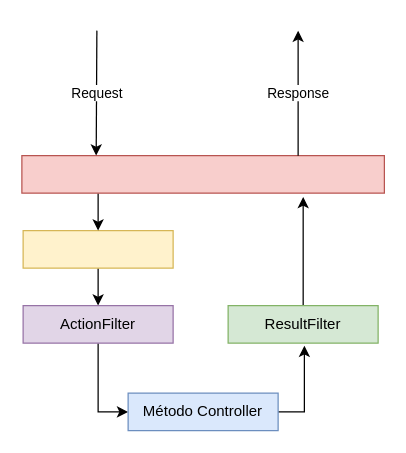
This 406x453 diagram has some shape labels left out. Here are the shapes that lost their labels. From the top down, the centre of each, then its label:
At point (202, 173): "ExceptionFIlter".
At point (97, 248): "AuthorizationFilter".
